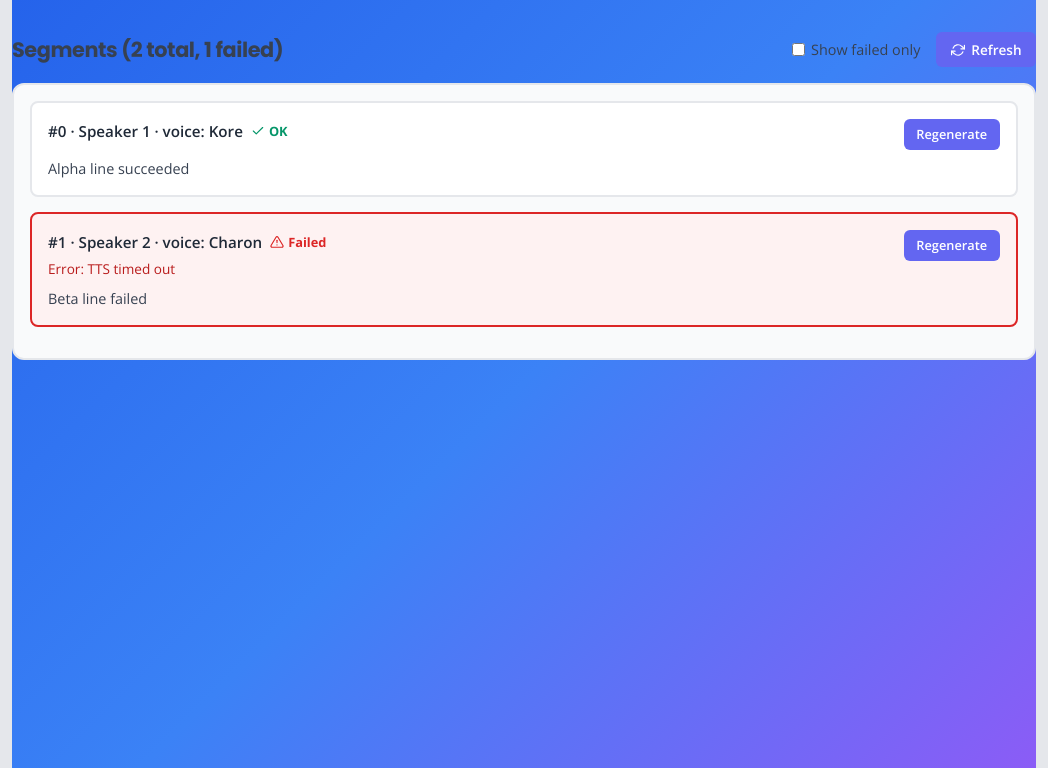
Test case: SegmentList regeneration in-flight guard › disables regenerate controls while a regeneration is in flight
The image size is (1048, 768).
Expected: the text "Alpha line succeeded" is shown, x1=48 y1=159 x2=189 y2=178
Click the button with aria-label "Regenerate segment 1". click: click(952, 245)
box: x1=904 y1=230 x2=1000 y2=261
(page scrolled)
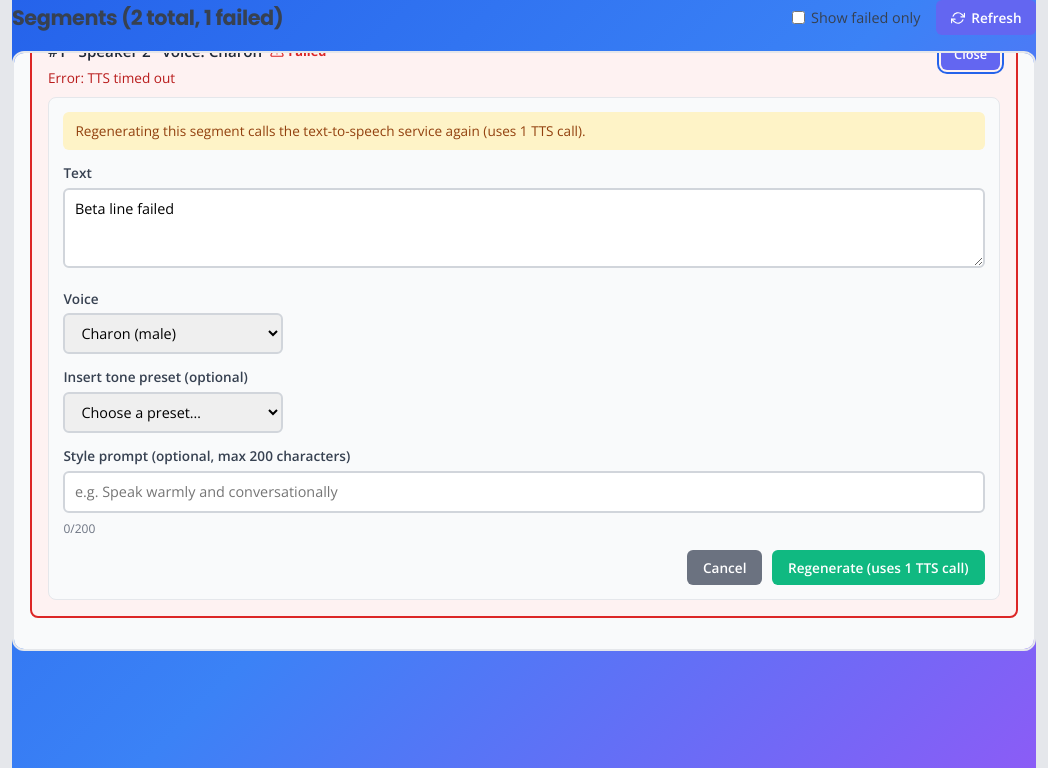
Click the button "Regenerate (uses 1 TTS call)". click: click(878, 567)
box: x1=772 y1=550 x2=985 y2=585
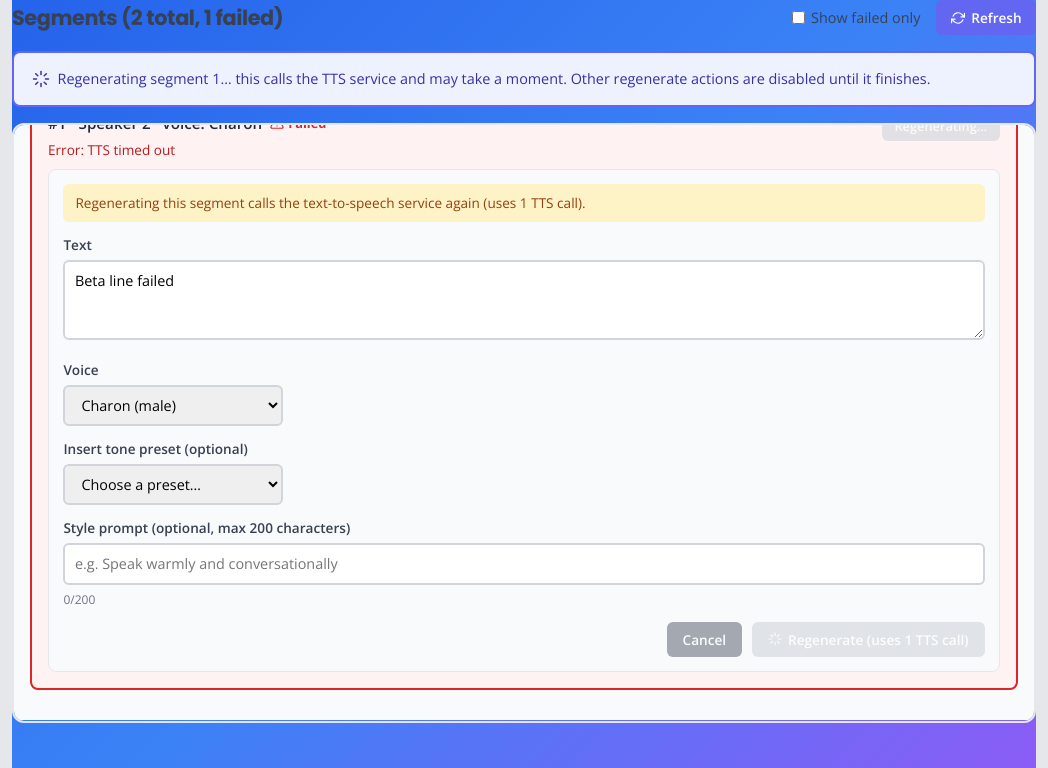
Result: the button with aria-label "Regenerate segment 1" is disabled at x1=882 y1=123 x2=1000 y2=141
Result: the button with aria-label "Regenerate segment 1" reads "Regenerating…" at x1=882 y1=123 x2=1000 y2=141
Result: the button "Regenerate (uses 1 TTS call)" is disabled at x1=752 y1=622 x2=985 y2=657
